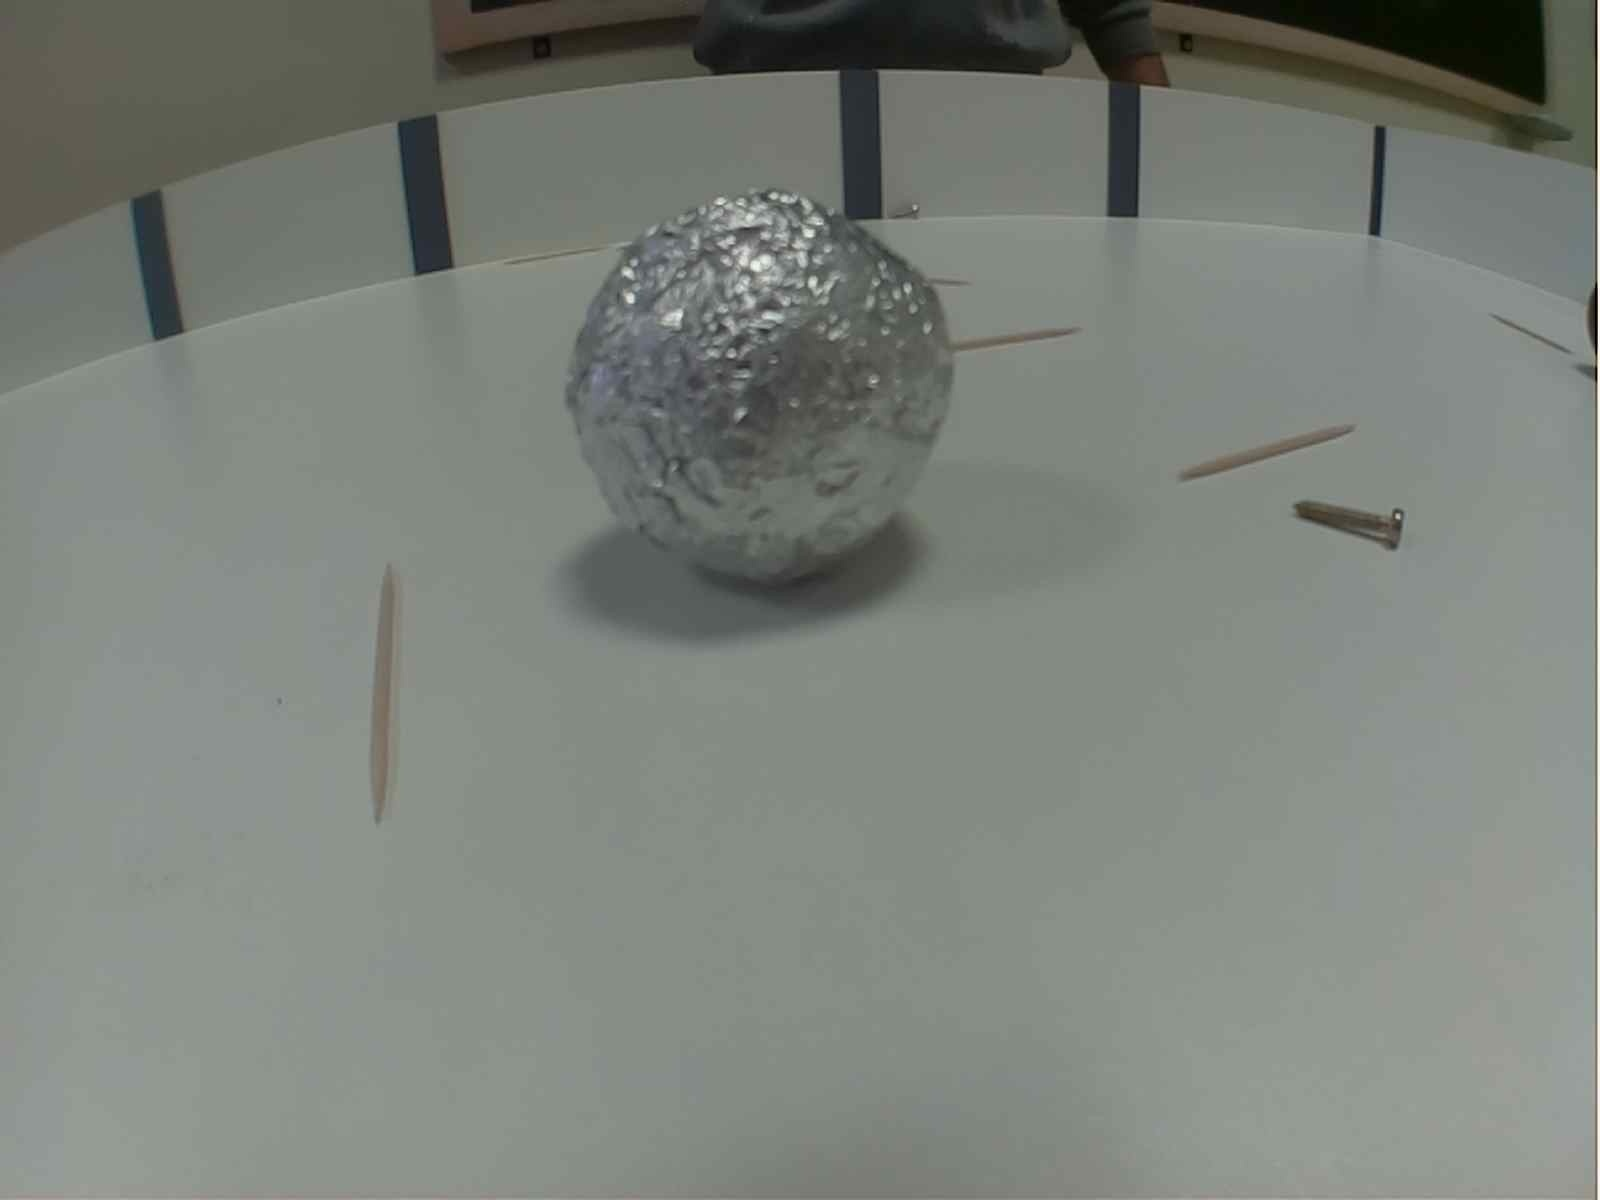bianca: (559, 188, 954, 584)
